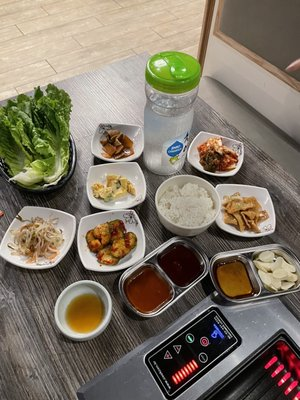pizza: (53, 280, 113, 341)
sushi: (0, 83, 77, 194), (117, 236, 211, 318), (208, 243, 300, 306), (0, 206, 77, 271), (76, 209, 146, 274), (154, 174, 221, 237), (54, 280, 113, 341), (214, 184, 277, 238), (86, 161, 147, 211), (185, 131, 245, 179), (90, 123, 145, 163)
